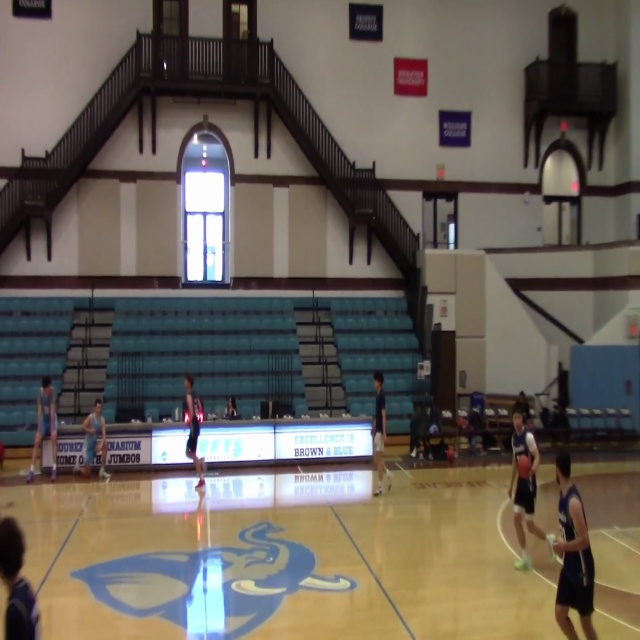Basketball: (517, 455, 531, 478), (446, 448, 455, 463)
